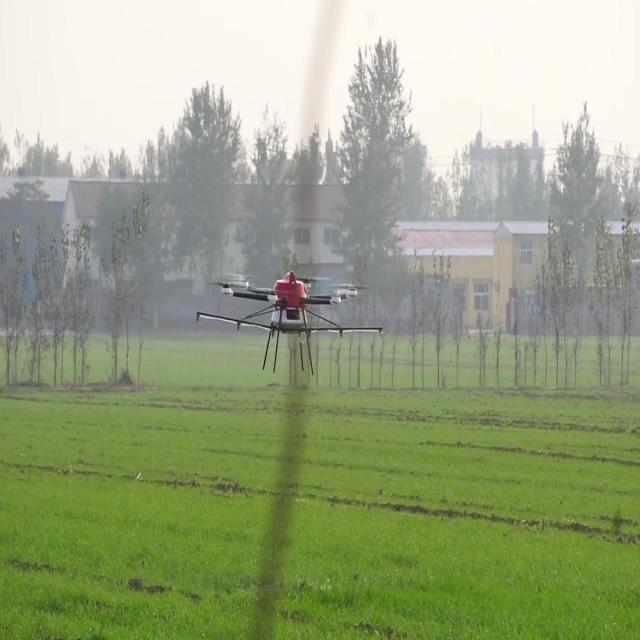UAV: (196, 270, 384, 376)
